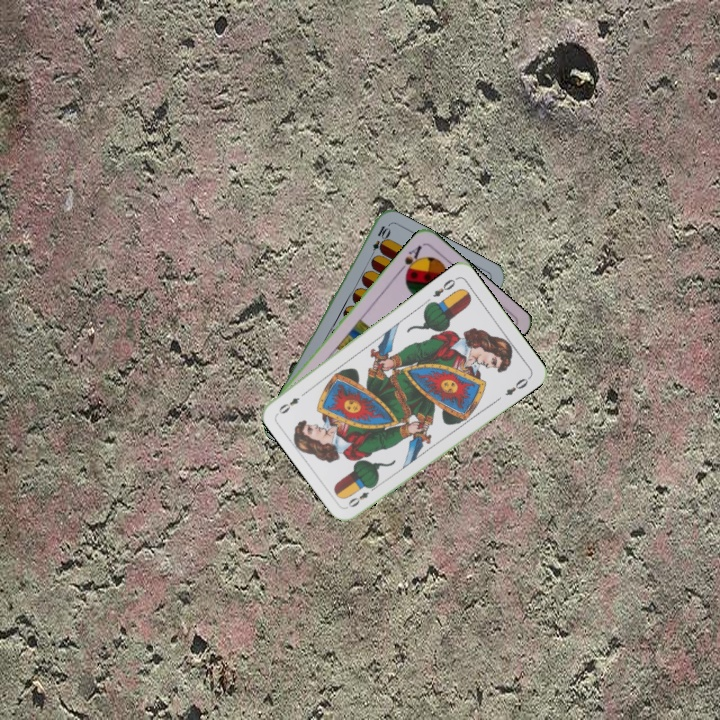E10: (366, 222, 392, 261)
EO: (344, 481, 379, 510), (429, 273, 460, 300)
SA: (395, 241, 424, 278)
